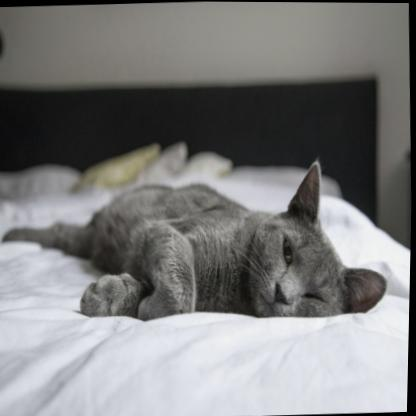cat: (0, 154, 394, 333)
